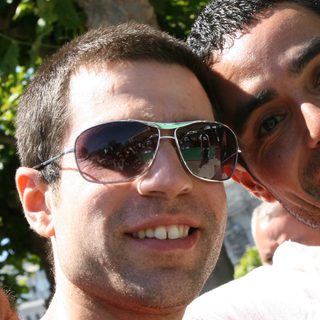eye: (254, 108, 288, 143)
